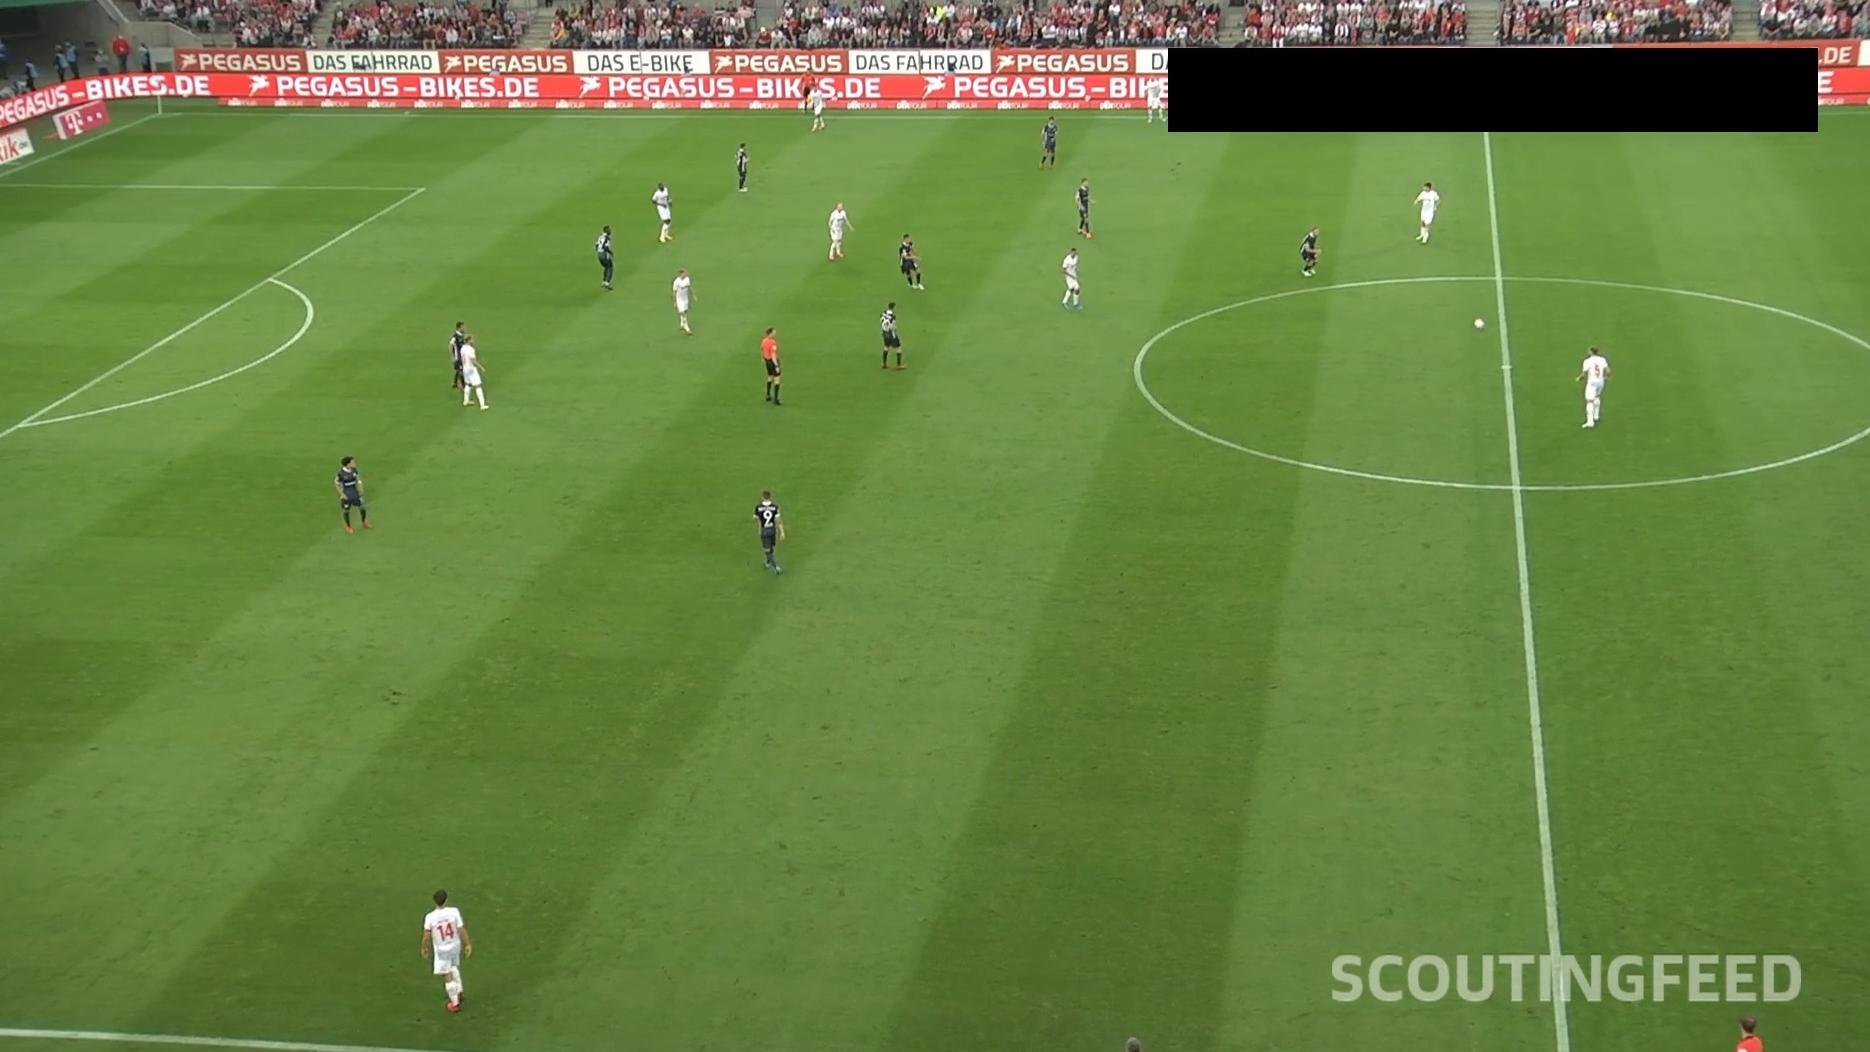ball: (1473, 317, 1486, 331)
